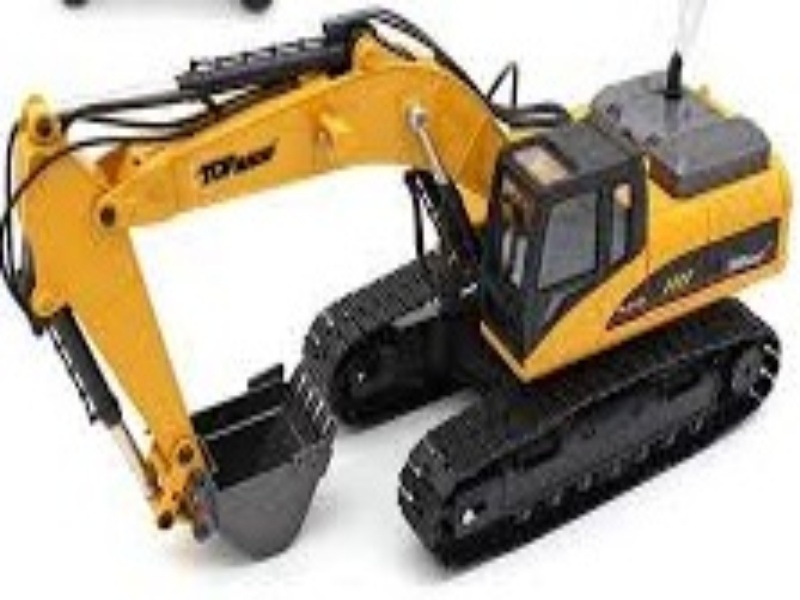wajueji: (136, 11, 793, 600)
